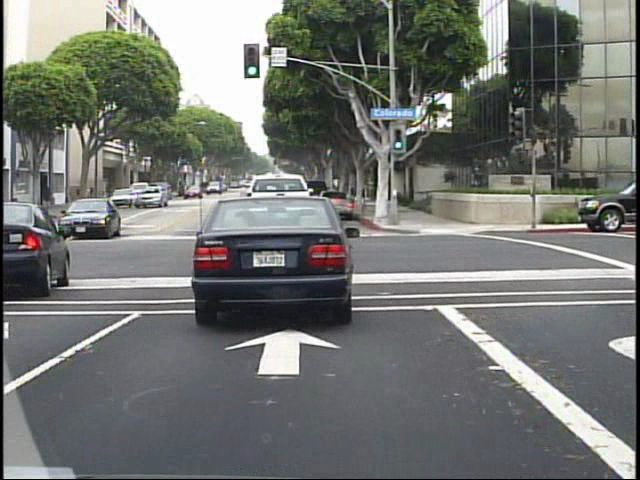person: (40, 184, 58, 219)
